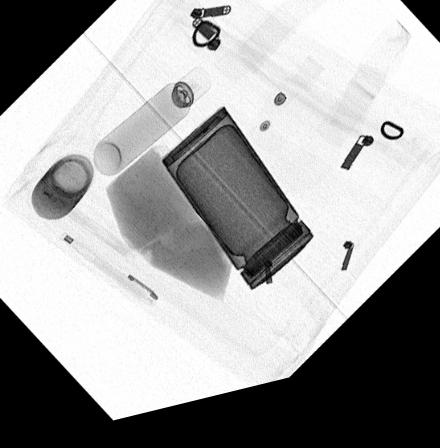Sprayer: (91, 75, 213, 182)
